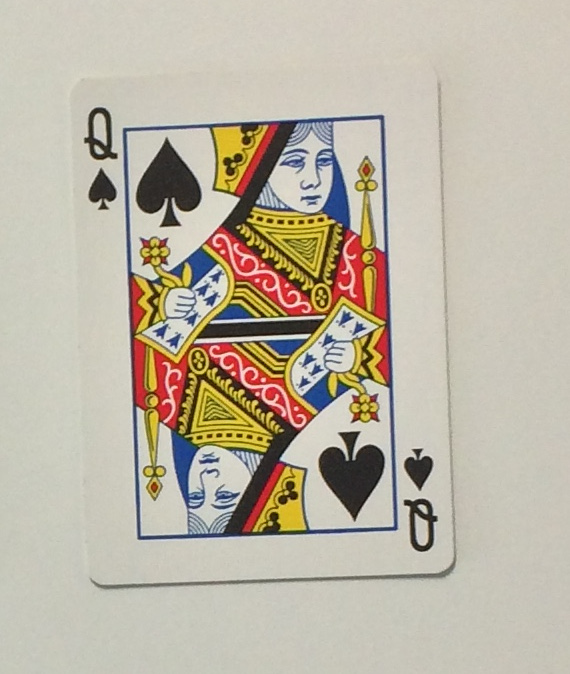Q: (74, 95, 122, 167)
S: (81, 169, 125, 215)
